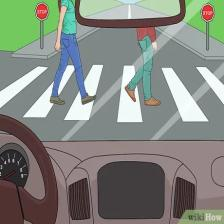Stop-sign: (34, 0, 50, 22), (200, 0, 216, 22)
